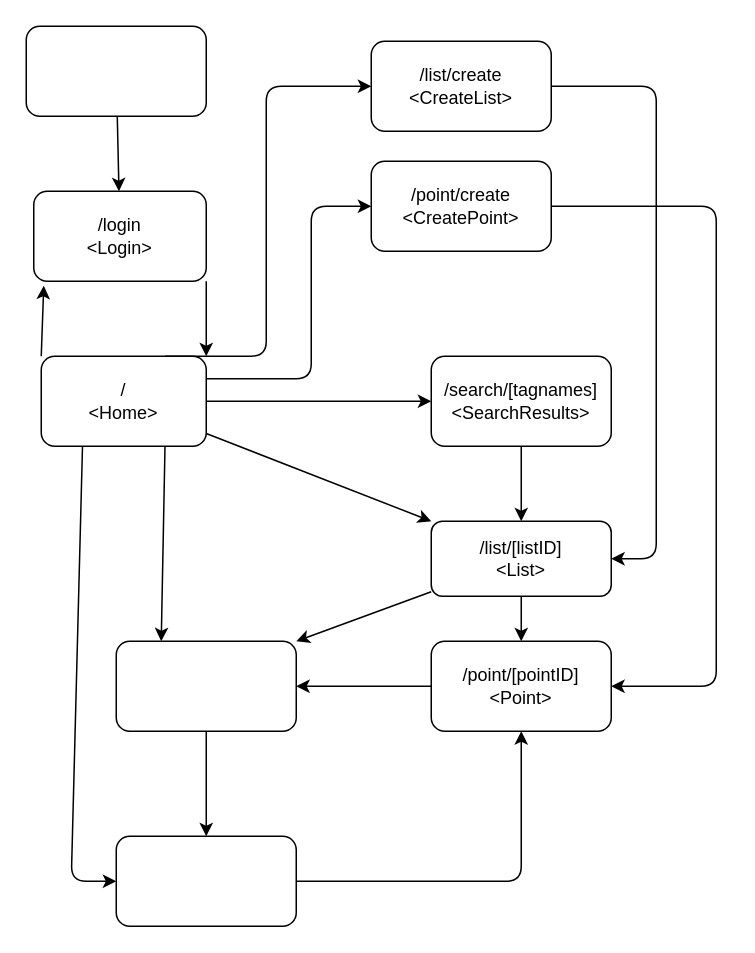
Image size: 755x953. Some labels were removed from this diagram. The shapes that lost their labels are listed below. From the top down, each one's centre as x and y in pixels, then its label:
At point (115, 70): "/* <NoPage>".
At point (205, 685): "/[username] <Profile>".
At point (205, 880): "/[username]/lists <UsersLists>".
